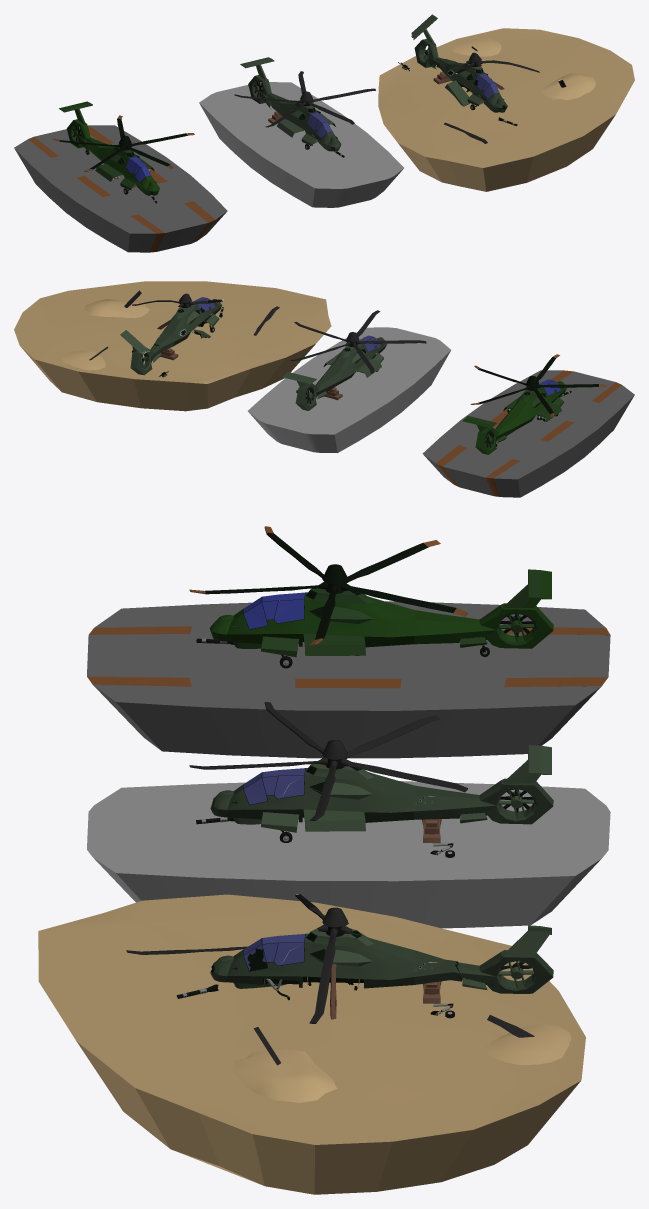
The model's file is heli_crashed.glb.
3 views of the same model, one above another, from view 1: azimuth 30°, elevation 25°; view 2: azimuth 150°, elevation 25°; view 3: azimuth 270°, elevation 25° (orthographic). The views are drawn at different scales.
Parts seen in each view (by area): view 1: Sand3, Road, Asphalt1, Helicopter_Old, Helicopter_Crashed, Helicopter_New; view 2: Sand3, Road, Asphalt1, Helicopter_Old, Helicopter_New, Helicopter_Crashed; view 3: Sand3, Road, Asphalt1, Helicopter_Old, Helicopter_New, Helicopter_Crashed.
Boxes of the visible parts, left/top/right/bottom form: Sand3: left=378, top=28, right=634, bottom=191; Road: left=14, top=125, right=227, bottom=252; Asphalt1: left=199, top=82, right=403, bottom=207; Helicopter_Old: left=234, top=57, right=375, bottom=157; Helicopter_Crashed: left=398, top=14, right=566, bottom=143; Helicopter_New: left=53, top=101, right=194, bottom=203; Sand3: left=14, top=281, right=331, bottom=411; Road: left=422, top=370, right=634, bottom=497; Asphalt1: left=248, top=327, right=450, bottom=452; Helicopter_Old: left=282, top=310, right=426, bottom=410; Helicopter_New: left=462, top=354, right=606, bottom=454; Helicopter_Crashed: left=89, top=290, right=279, bottom=377; Sand3: left=38, top=894, right=585, bottom=1194; Road: left=87, top=601, right=610, bottom=758; Asphalt1: left=87, top=781, right=610, bottom=928; Helicopter_Old: left=189, top=702, right=553, bottom=857; Helicopter_New: left=189, top=526, right=553, bottom=668; Helicopter_Crashed: left=126, top=894, right=553, bottom=1065.
Bounding box in the file's own units: 203 × 29.99 × 90.61.
